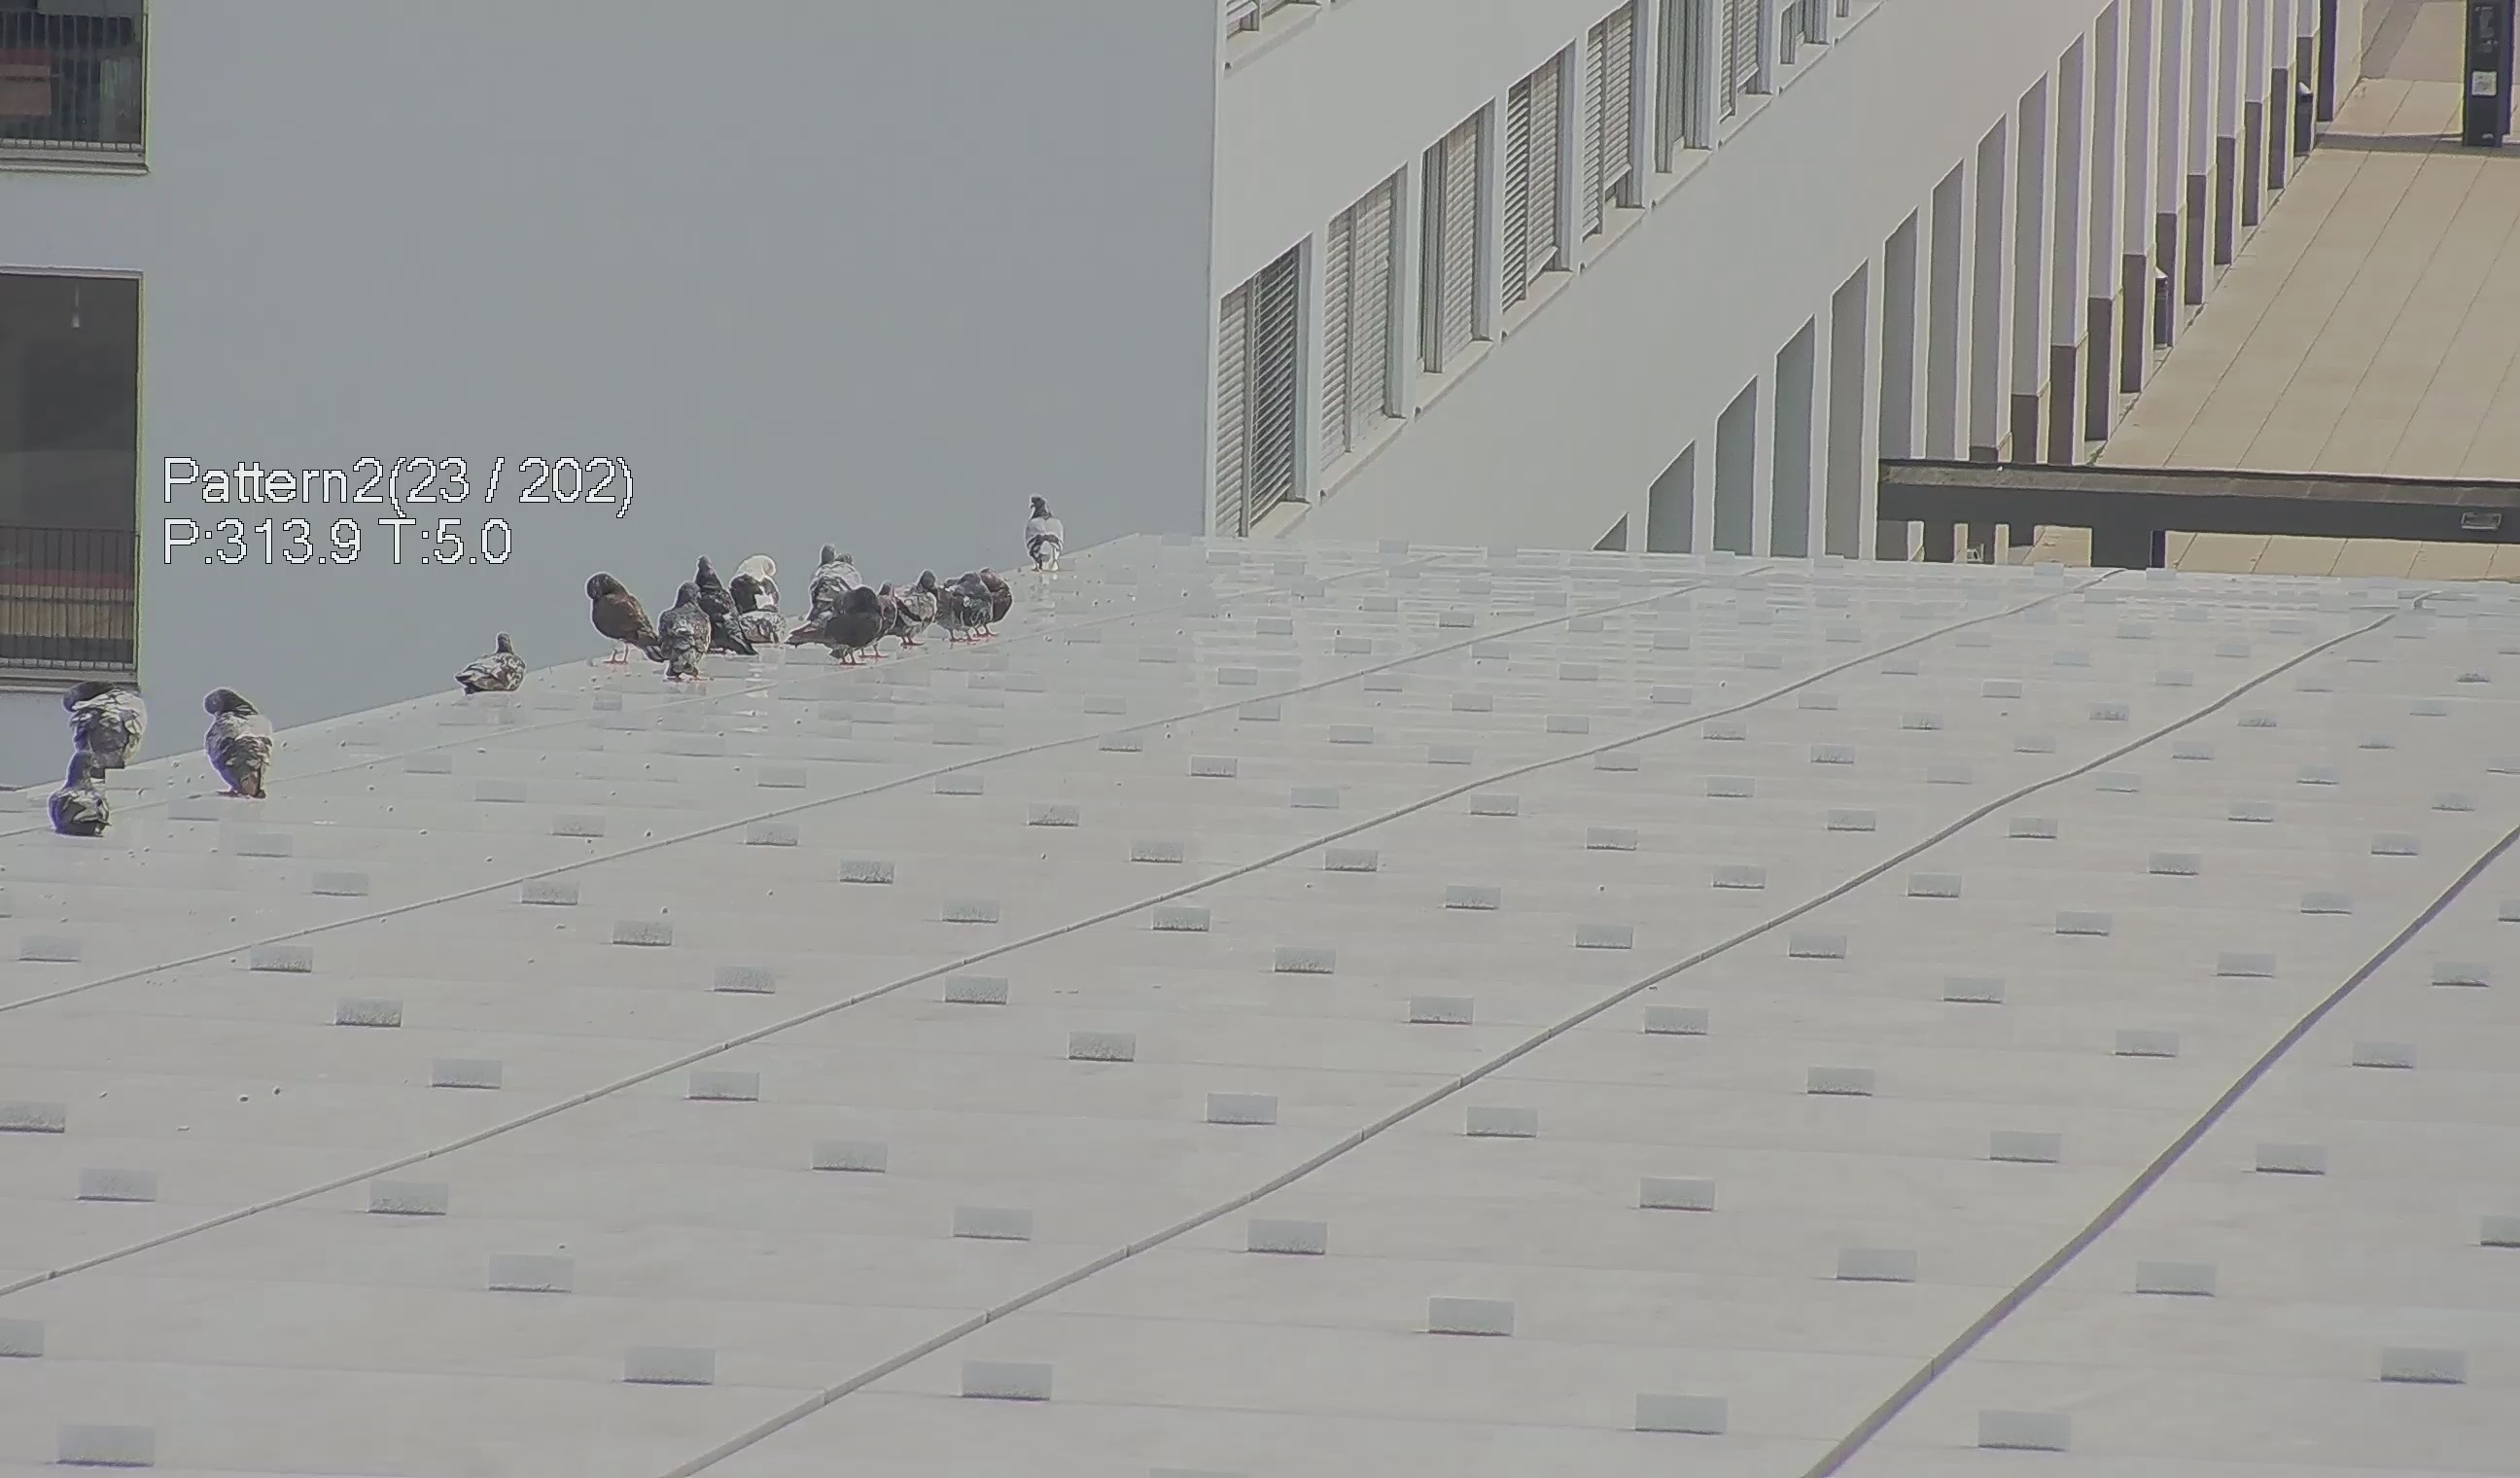Pigeon: (185, 669, 287, 806), (566, 556, 668, 674), (63, 679, 171, 779), (42, 744, 120, 846), (932, 552, 1008, 651), (791, 584, 886, 662), (691, 554, 756, 653), (455, 625, 533, 700), (733, 551, 793, 640), (1008, 487, 1066, 577), (665, 581, 714, 686), (881, 568, 941, 649), (811, 540, 872, 616), (987, 567, 1016, 633)
